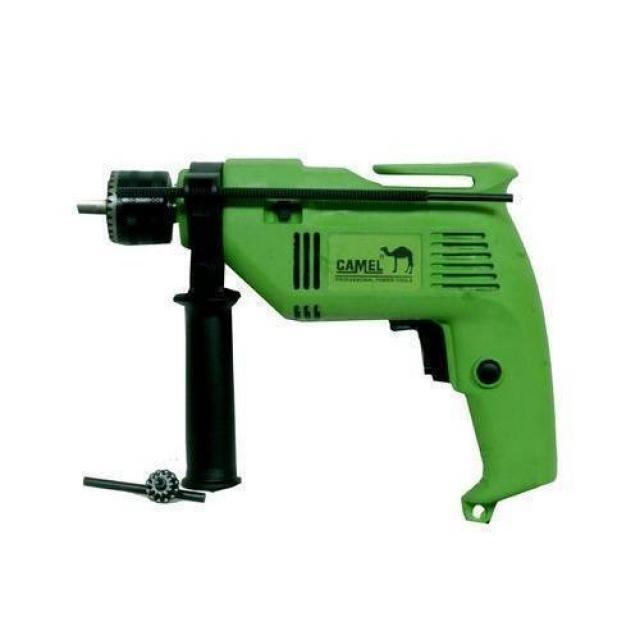drill: (76, 158, 558, 524)
